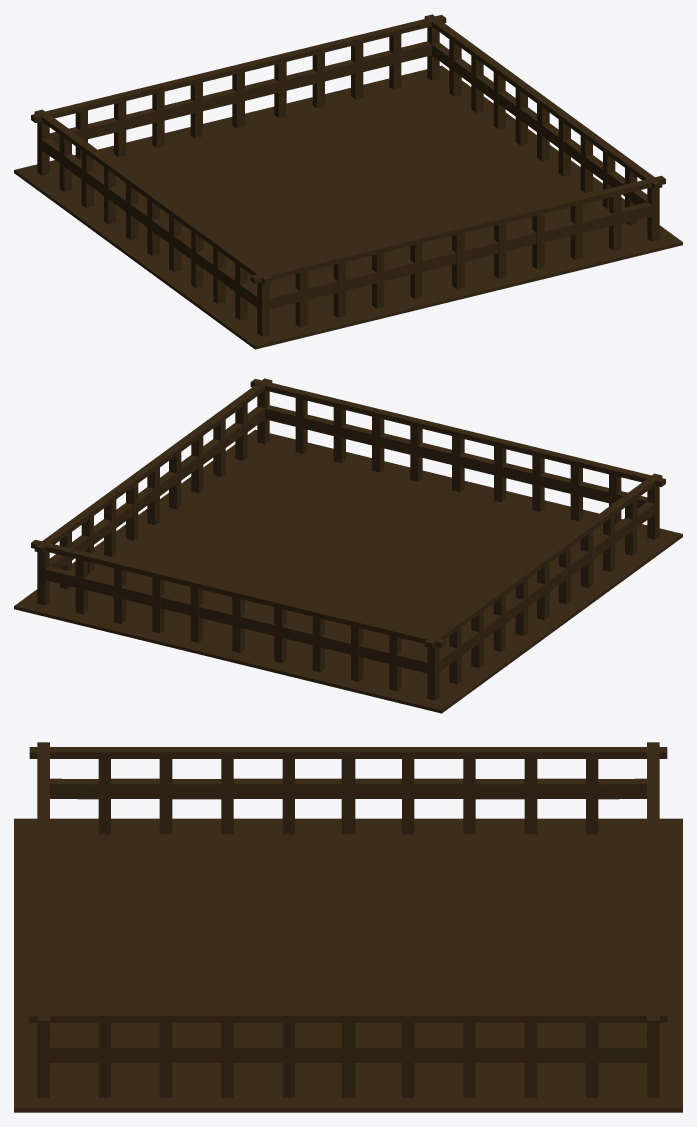
The model's file is Fence.fbx.
3 views of the same model, one above another, from view 1: azimuth 30°, elevation 25°; view 2: azimuth 150°, elevation 25°; view 3: azimuth 270°, elevation 25° (orthographic). The views are drawn at different scales.
Visible parts, largest first — view 1: Cube; view 2: Cube; view 3: Cube.
Part boxes in pixels (x1,y1,x2,y2): Cube: (14,14,682,349); Cube: (14,378,682,713); Cube: (14,742,682,1112).
Bounding box in the file's own units: 1766 × 245 × 1724.
